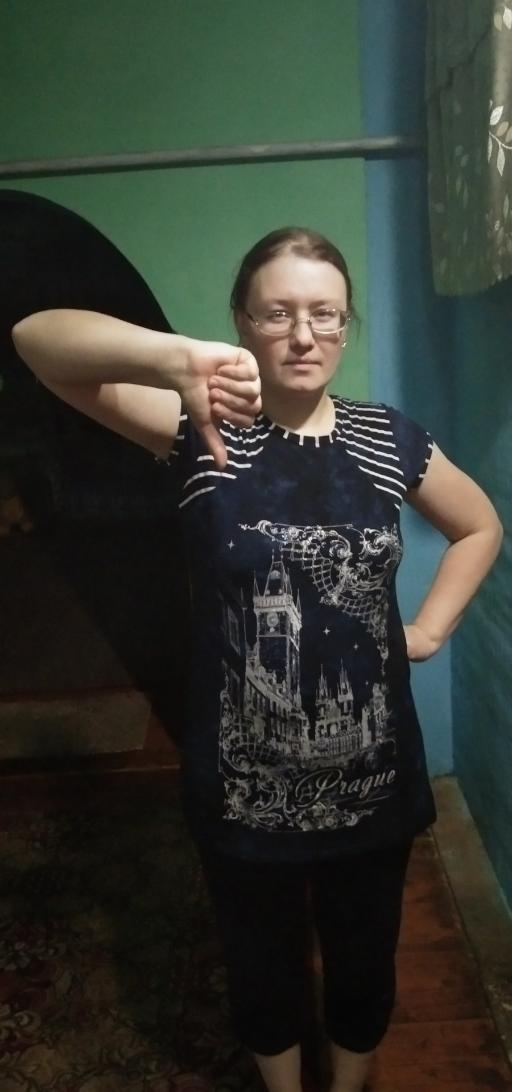dislike: (175, 332, 263, 472)
